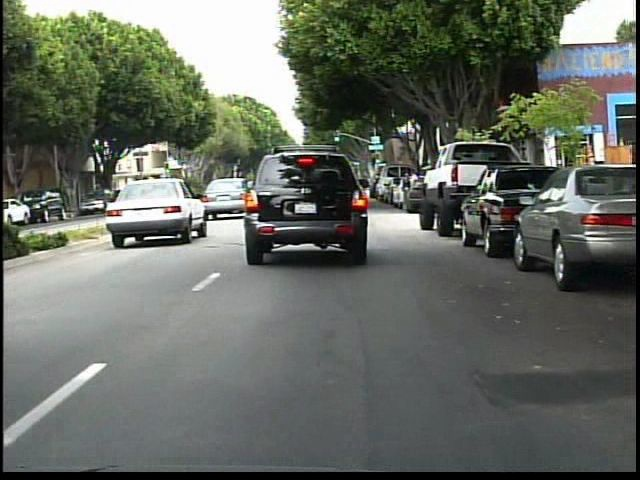person: (398, 167, 411, 216), (409, 167, 420, 187)
